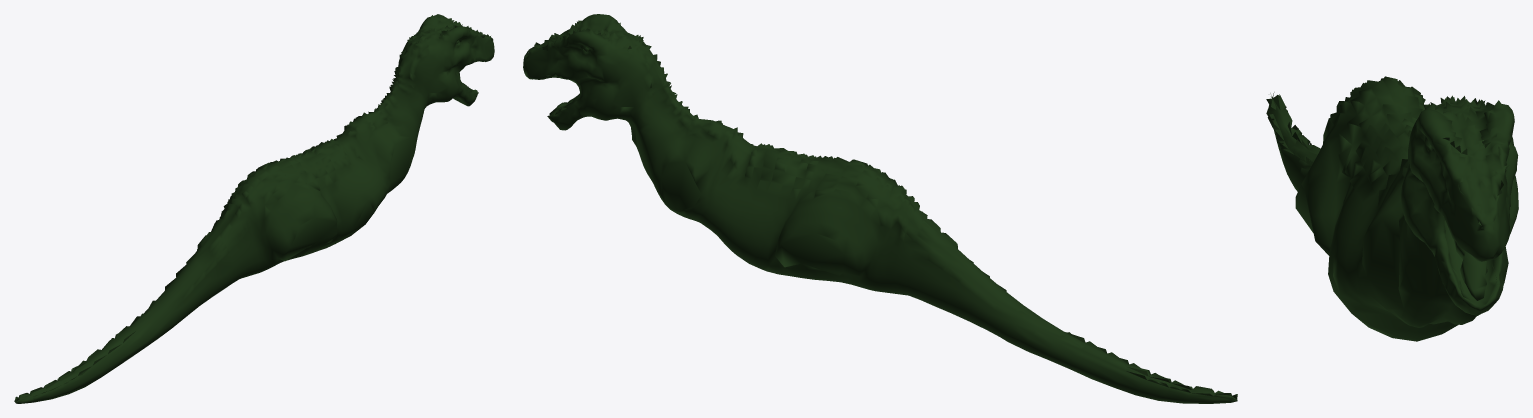
The model's file is Dinosaur_V02_Low_Cut.FBX.
3 renders of one model, left to right at view 1: azimuth 30°, elevation 25°; view 2: azimuth 150°, elevation 25°; view 3: azimuth 270°, elevation 25°, orthographic. The views are drawn at different scales.
Parts seen in each view (by area): view 1: Body_Dinosaur_Low; view 2: Body_Dinosaur_Low; view 3: Body_Dinosaur_Low.
Boxes of the visible parts, <box> form: Body_Dinosaur_Low: <box>14,14,494,403</box>; Body_Dinosaur_Low: <box>523,14,1237,403</box>; Body_Dinosaur_Low: <box>1266,76,1518,341</box>.
Size of the model in its own units: 221 by 45.54 by 95.6.
